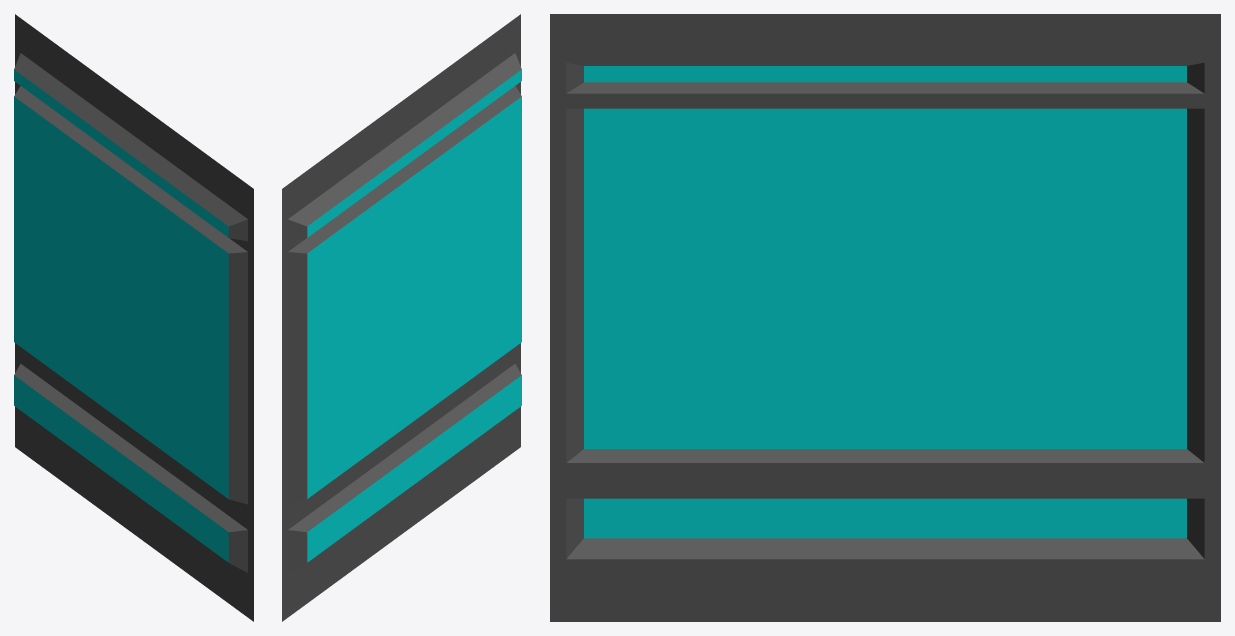
File: milit_wall_window_03_LOD0.fbx
3 renders of one model, left to right at view 1: azimuth 30°, elevation 25°; view 2: azimuth 150°, elevation 25°; view 3: azimuth 270°, elevation 25°, orthographic. The views are drawn at different scales.
Visible parts, largest first — view 1: milit_wall_window_03_LOD0; view 2: milit_wall_window_03_LOD0; view 3: milit_wall_window_03_LOD0.
Boxes of the visible parts, x1=… form: milit_wall_window_03_LOD0: x1=14, y1=14, x2=253, y2=621; milit_wall_window_03_LOD0: x1=282, y1=14, x2=521, y2=621; milit_wall_window_03_LOD0: x1=550, y1=14, x2=1220, y2=621.
Bounding box in the file's own units: 0.0941 × 3 × 3.
